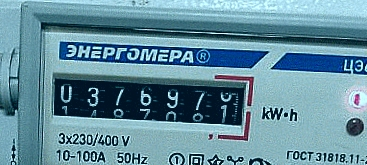0: (57, 81, 73, 104)
1: (218, 102, 228, 125)
3: (85, 85, 99, 107)
6: (137, 83, 153, 107)
7: (111, 83, 126, 107), (191, 86, 206, 110)
9: (164, 86, 179, 109)
screen: (40, 63, 257, 144)
